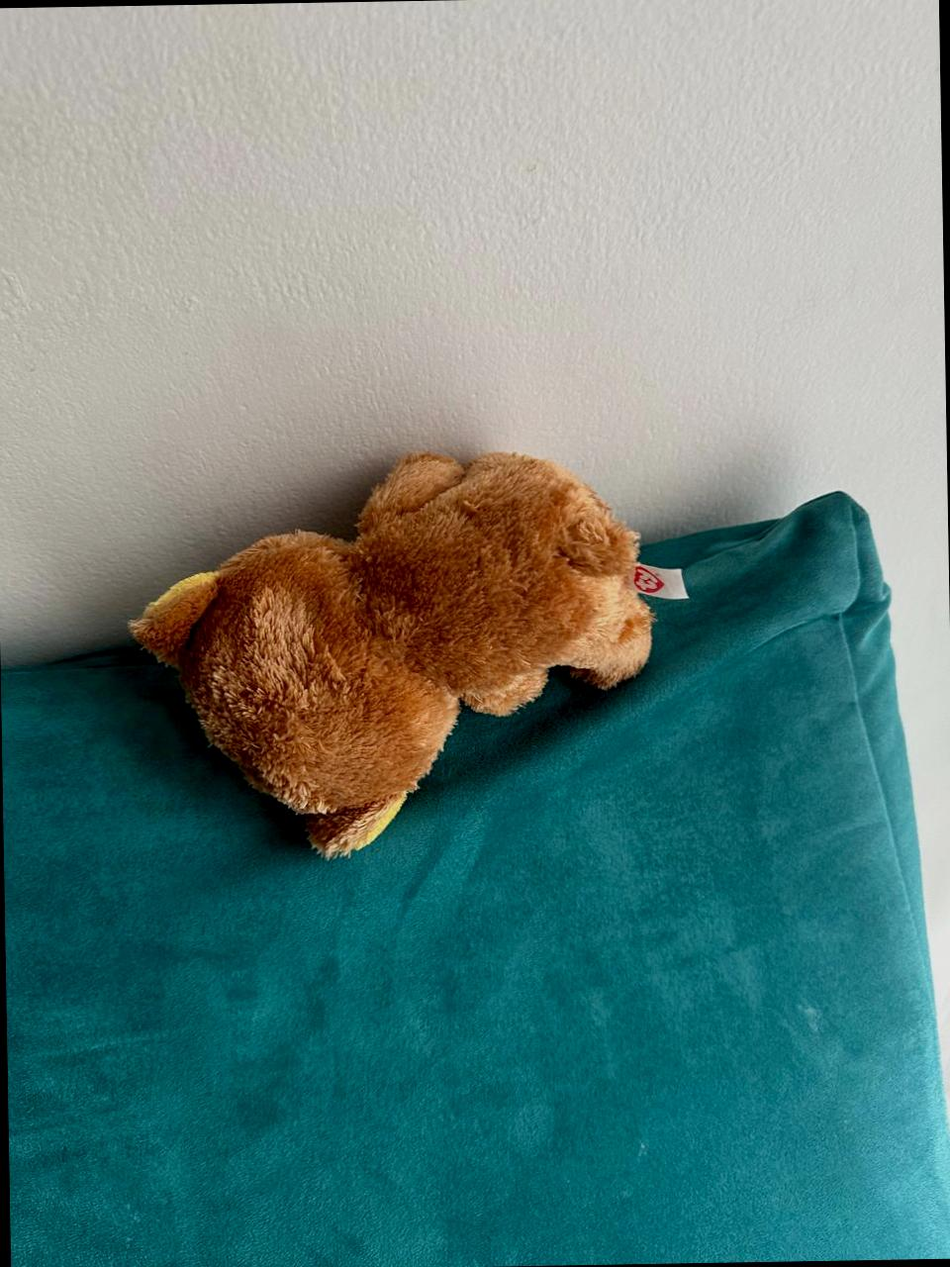peluche_sebastian: (145, 447, 657, 862)
